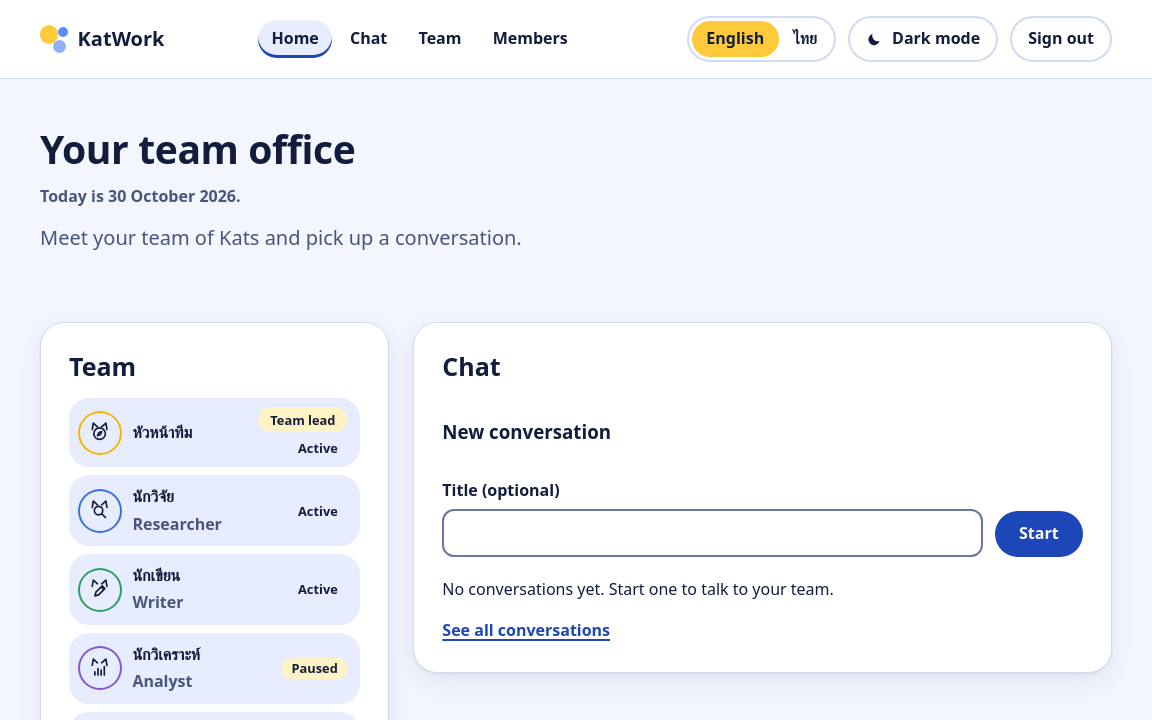
Test: members_page_is_offered_only_to_owners_and_admins (admin)
expect the link "Chat" is shown: met, box [350,27,387,49]
Click the link "Members".
click(530, 38)  # box [493,27,568,49]
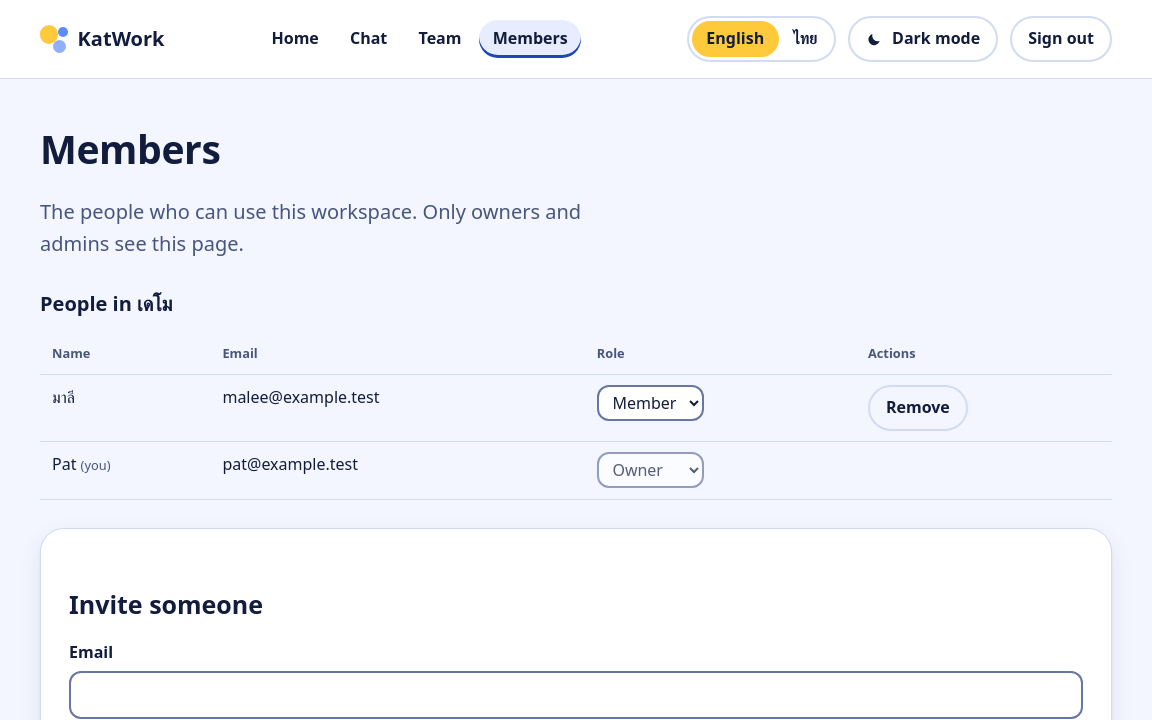
expect the heading "Members" is shown: met, box [40,122,220,175]
expect the text "malee@example.test" is shown: met, box [210,374,585,441]
